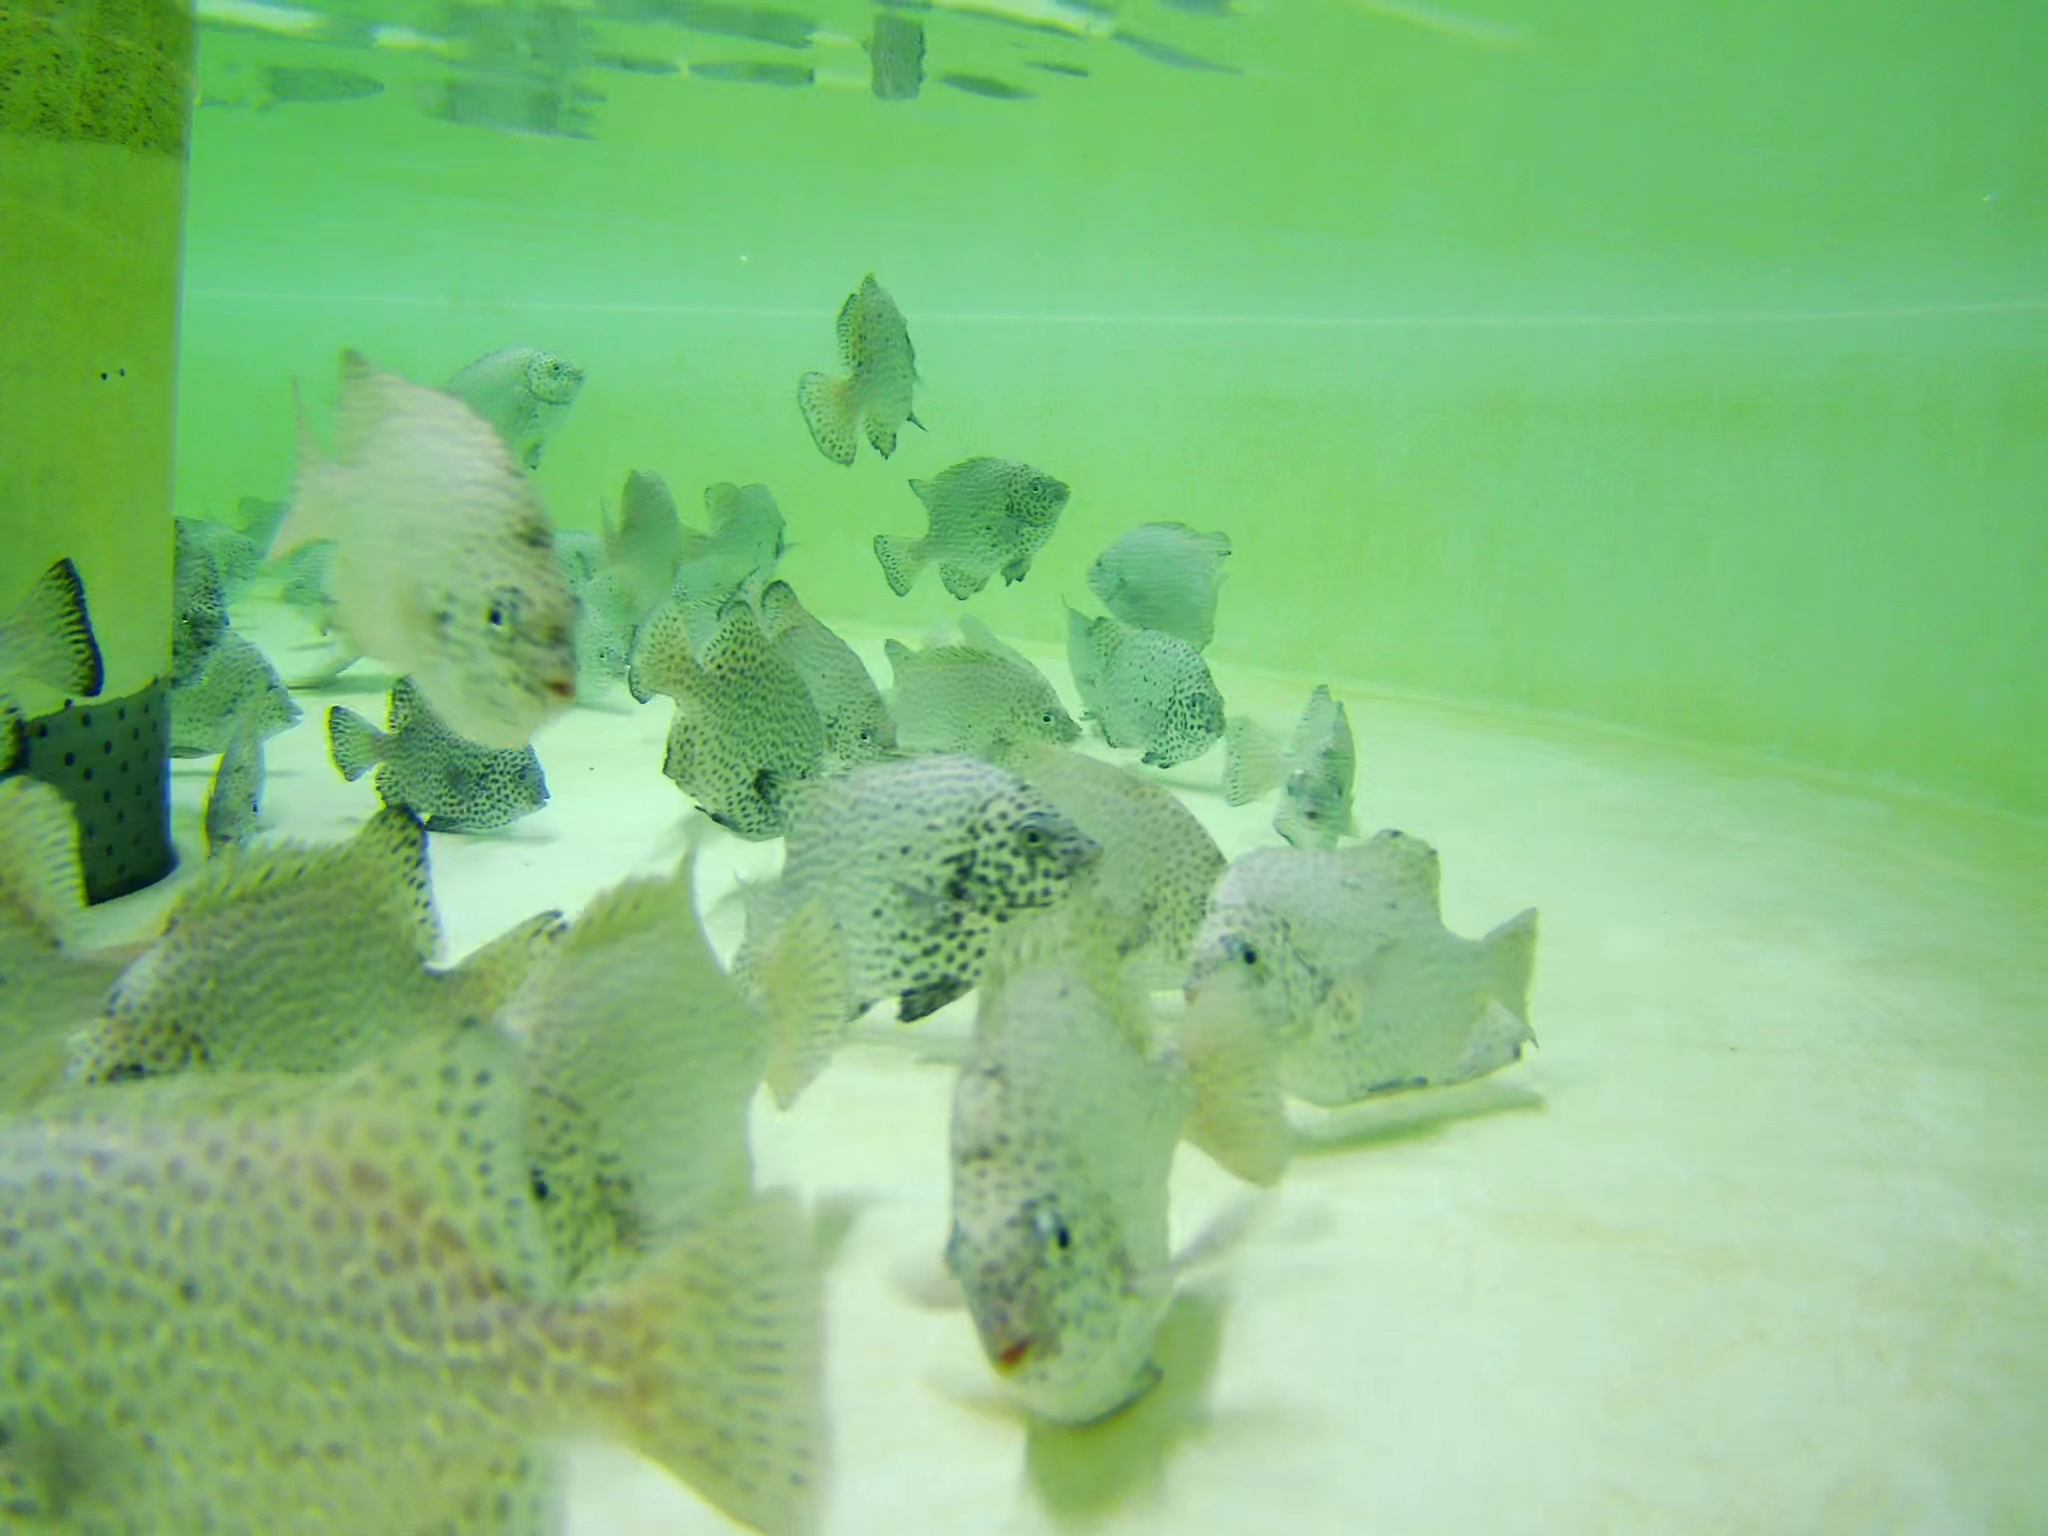fish: (15, 1029, 816, 1536), (926, 923, 1272, 1389), (95, 826, 547, 1141), (282, 342, 610, 760), (508, 870, 850, 1170), (1177, 842, 1532, 1078), (747, 749, 1097, 983), (987, 733, 1216, 968), (632, 578, 800, 839), (326, 674, 555, 833), (2, 536, 118, 784), (877, 626, 1079, 768), (743, 560, 882, 763), (864, 457, 1074, 589), (790, 273, 916, 461), (1051, 608, 1208, 753), (1219, 670, 1348, 845), (445, 334, 584, 494), (166, 607, 298, 760), (2, 762, 94, 963), (1089, 515, 1234, 636), (684, 476, 822, 591), (608, 466, 690, 639), (158, 523, 221, 695), (202, 708, 264, 849)
